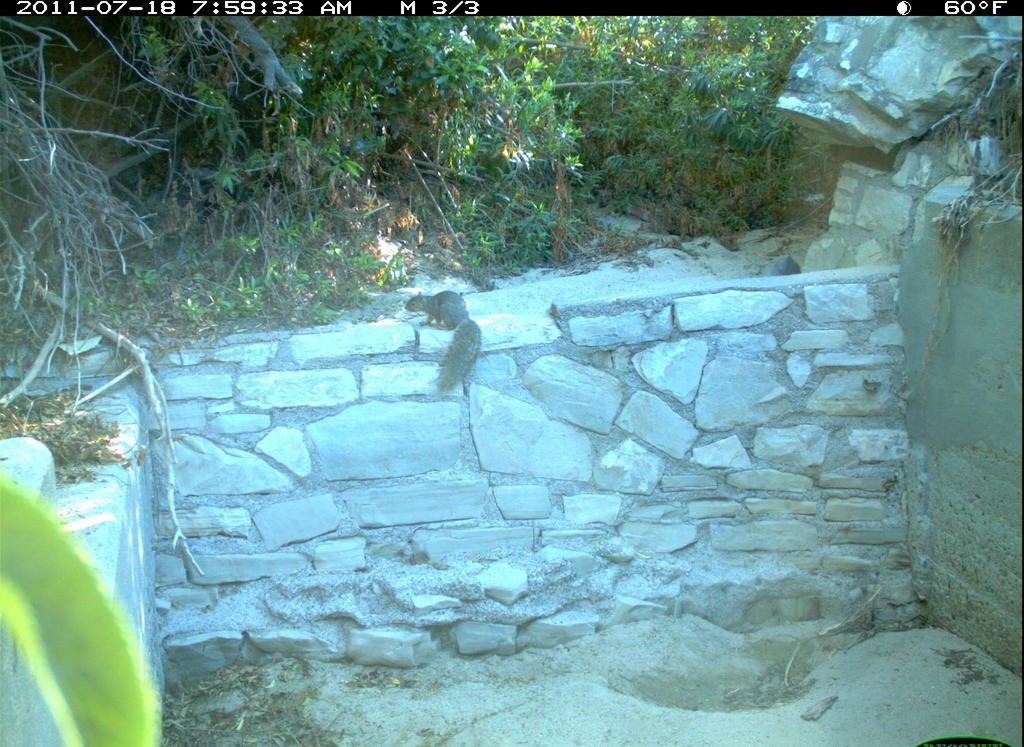squirrel: (402, 290, 506, 400)
